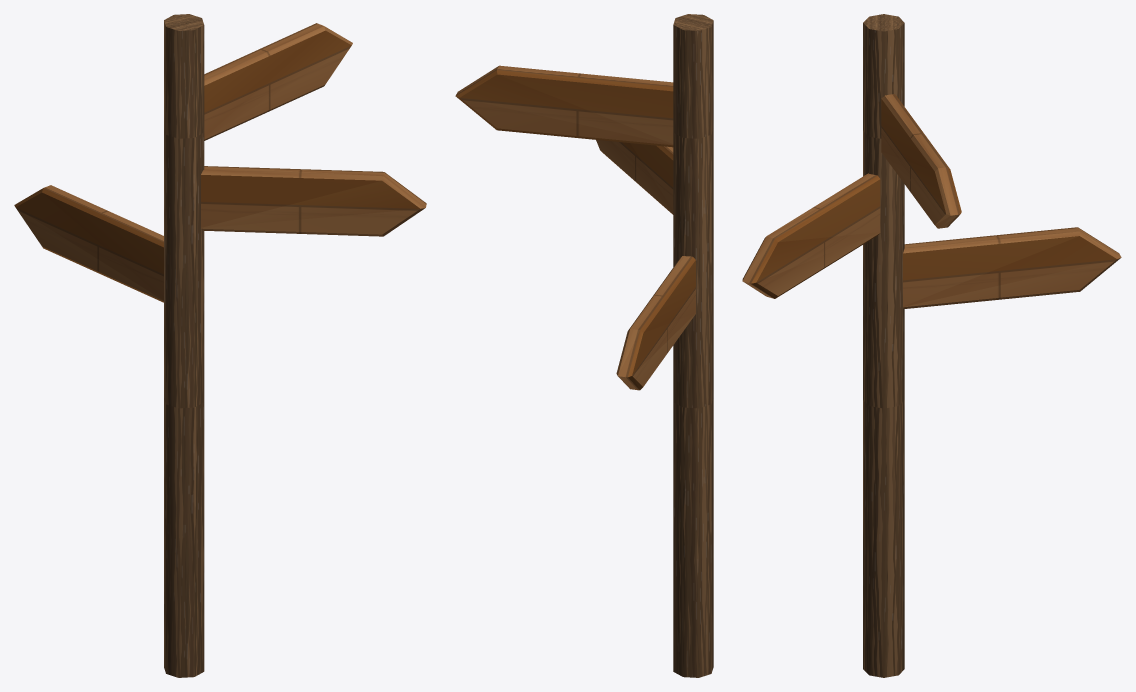
File: prop_signpost.glb
3 renders of one model, left to right at view 1: azimuth 30°, elevation 25°; view 2: azimuth 150°, elevation 25°; view 3: azimuth 270°, elevation 25°, orthographic.
Parts seen in each view (by area): view 1: prop_signpost, prop_signpost_log; view 2: prop_signpost_log, prop_signpost; view 3: prop_signpost, prop_signpost_log.
Part boxes in pixels (x1,y1,x2,y2): prop_signpost: [14, 23, 426, 302]; prop_signpost_log: [164, 14, 204, 677]; prop_signpost_log: [673, 14, 713, 677]; prop_signpost: [455, 65, 695, 390]; prop_signpost: [742, 94, 1121, 308]; prop_signpost_log: [863, 14, 904, 677].
Bounding box in the file's own units: 0.9939 × 2.4 × 1.28.
Materials: 2 (2 with a texture image).
